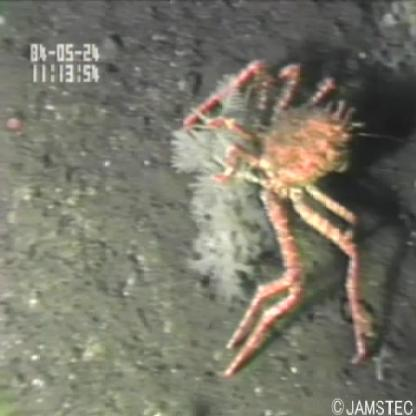Bio: (161, 51, 379, 382)
